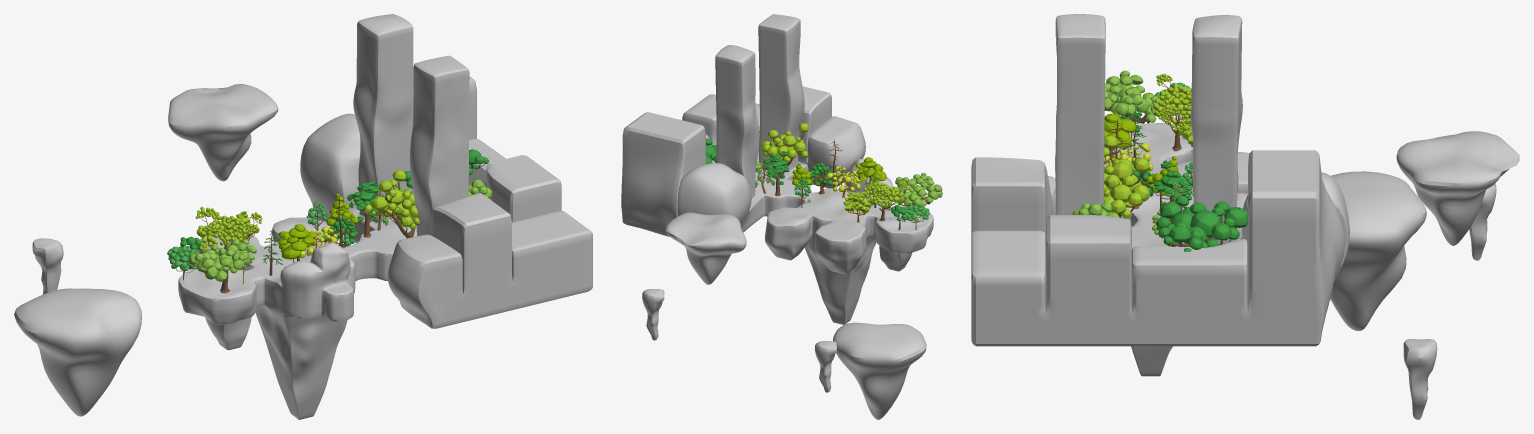
3 renders of one model, left to right at view 1: azimuth 30°, elevation 25°; view 2: azimuth 150°, elevation 25°; view 3: azimuth 270°, elevation 25°, orthographic. The views are drawn at different scales.
Parts seen in each view (by area): view 1: 立方体.011, 立方体.012, 立方体.014, ploygon130, ploygon110, ploygon126, 立方体.015, ploygon138, ploygon118, ploygon132, ploygon98; view 2: 立方体.011, 立方体.012, 立方体.014, ploygon130, ploygon110, ploygon126, 立方体.016, 立方体.015, ploygon118, ploygon136, ploygon138, ploygon148 (+3 smaller); view 3: 立方体.011, 立方体.012, 立方体.014, ploygon122, ploygon110, ploygon130, 立方体.016, ploygon126, 立方体.015, ploygon118, ploygon138.
Part boxes in pixels (x1,y1,x2,y2): 立方体.011: (178,14,592,419); 立方体.012: (14,288,141,416); 立方体.014: (168,84,278,181); ploygon130: (188,239,256,293); ploygon110: (364,170,419,238); ploygon126: (195,206,262,251); 立方体.015: (32,238,63,294); ploygon138: (278,224,316,262); ploygon118: (347,182,381,237); ploygon132: (167,246,199,280); ploygon98: (323,216,358,248); 立方体.011: (621,14,933,324); 立方体.012: (833,322,926,419); 立方体.014: (665,212,746,284); ploygon130: (895,172,942,206); ploygon110: (761,123,808,178); ploygon126: (860,176,907,221); 立方体.016: (642,289,664,340); 立方体.015: (814,341,836,392); ploygon118: (763,151,789,196); ploygon136: (826,166,860,197); ploygon138: (855,157,886,190); ploygon148: (843,191,873,222); 立方体.011: (971,14,1349,376); 立方体.012: (1330,171,1426,330); 立方体.014: (1396,131,1519,245); ploygon122: (1156,196,1247,251); ploygon110: (1104,135,1149,218); ploygon130: (1104,70,1157,136); 立方体.016: (1403,339,1437,419); ploygon126: (1153,73,1191,151); 立方体.015: (1469,183,1496,260); ploygon118: (1149,160,1192,220); ploygon138: (1104,113,1136,166).
Size of the model in its own units: 30938 by 27357 by 30110.
